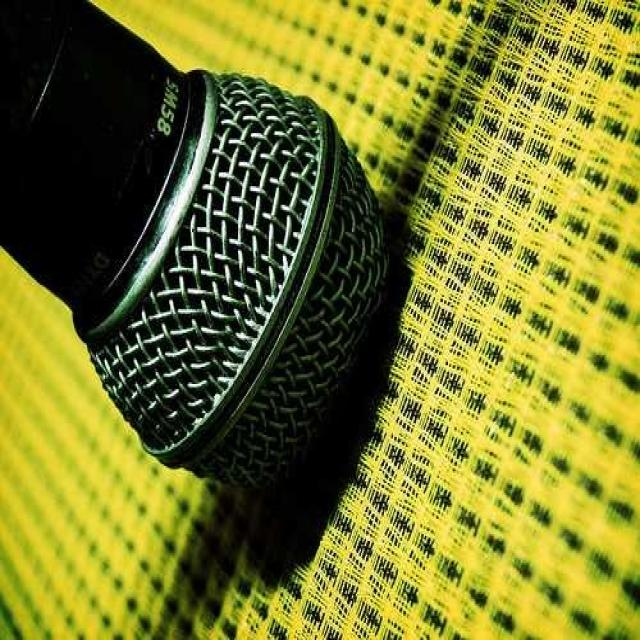microphone: (35, 0, 395, 524)
